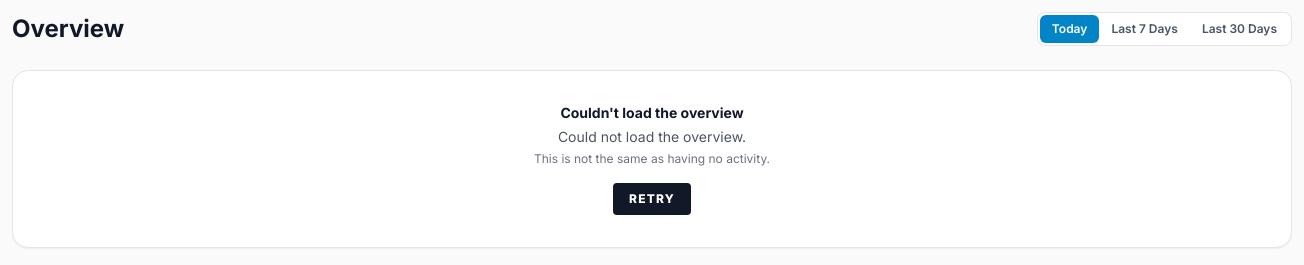
AdminOverviewAnalytics › shows a retryable error instead of zeros when the request fails
The width and height of the screenshot is (1304, 265).
Expected: the text "Couldn't load the overview" is shown, [560,104,744,121]
Expected: the text "This is not the same as having no activity." is shown, [534,151,770,166]
Click the button "Retry": (652, 199) [613,183,691,215]
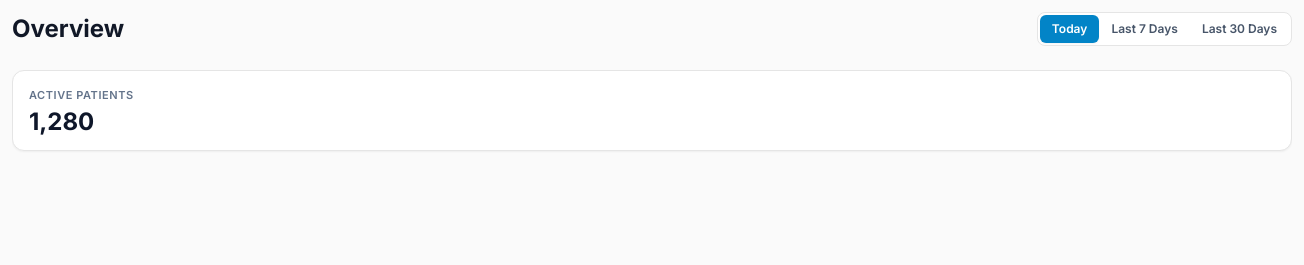
Now the text "Active Patients" is shown, box [29,88,134,102]
Now the message "Couldn't load the overview Could not load the overview. This is not the same as" is gone
